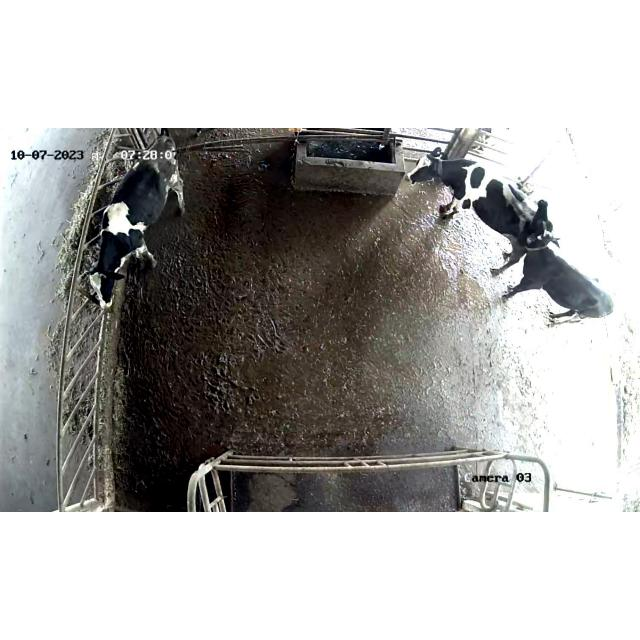propping: (502, 186, 566, 268)
